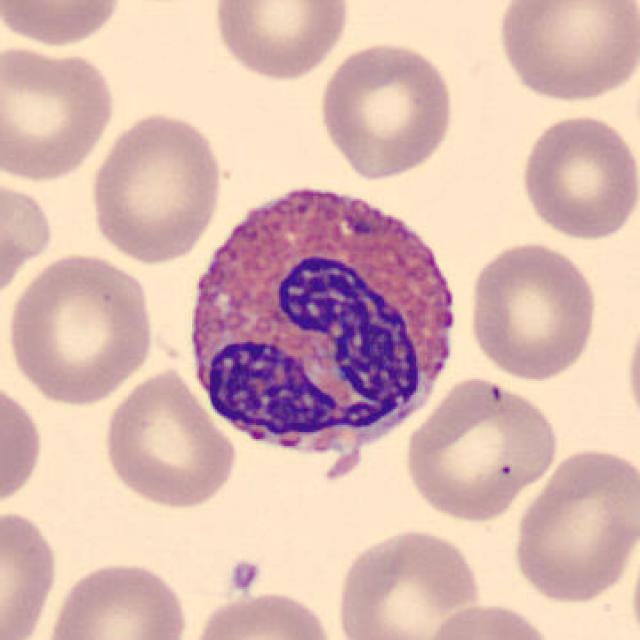Eosinophil: (176, 161, 471, 490)
Platelets: (224, 554, 263, 598)
RBC: (400, 374, 562, 525), (4, 249, 158, 407), (86, 108, 228, 266), (508, 442, 638, 606), (314, 37, 458, 182), (100, 365, 240, 513), (464, 238, 601, 383), (332, 525, 486, 640), (0, 40, 119, 184), (516, 111, 638, 243), (492, 0, 638, 106), (39, 555, 192, 640), (208, 0, 354, 83), (185, 587, 339, 640), (0, 504, 60, 640), (0, 173, 53, 307), (0, 374, 46, 515), (0, 0, 126, 49), (420, 599, 560, 640), (622, 300, 640, 444)
